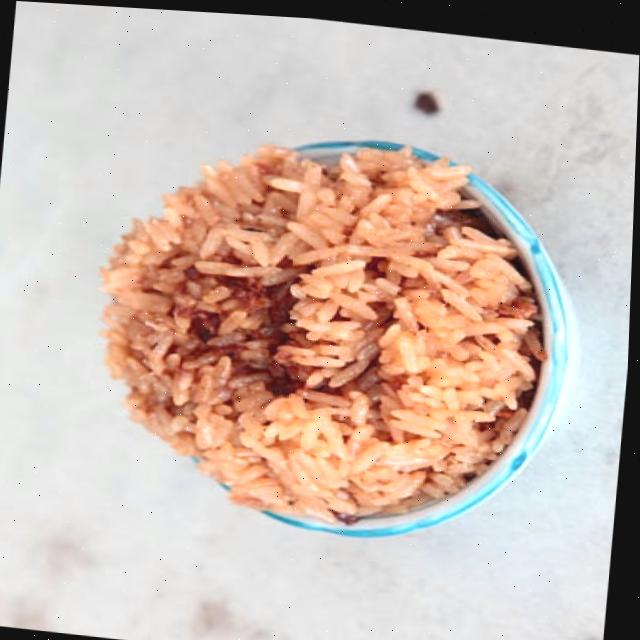米饭主食: (84, 89, 597, 547)
